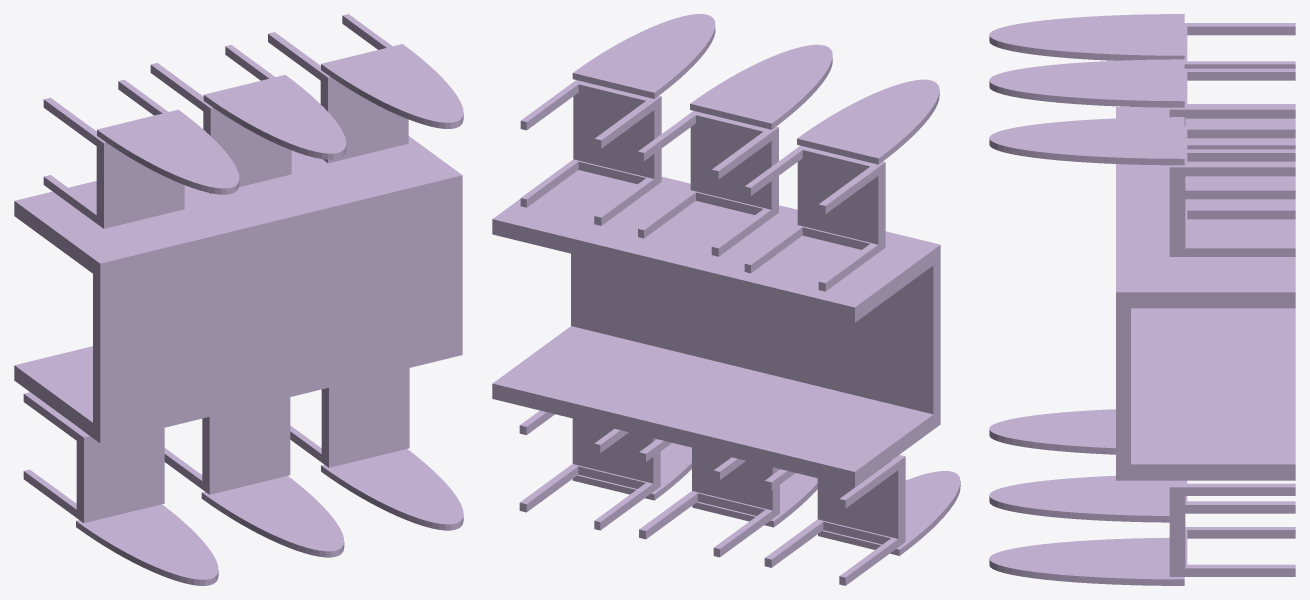
The model's file is tinker.obj.
3 renders of one model, left to right at view 1: azimuth 30°, elevation 25°; view 2: azimuth 150°, elevation 25°; view 3: azimuth 270°, elevation 25°, orthographic. The views are drawn at different scales.
Visible parts, largest first — view 1: obj_0; view 2: obj_0; view 3: obj_0.
Part boxes in pixels (left/top/right/bottom): obj_0: left=14, top=14, right=463, bottom=585; obj_0: left=492, top=14, right=960, bottom=585; obj_0: left=989, top=14, right=1295, bottom=585.
Bounding box in the file's own units: 173 × 186 × 121.
